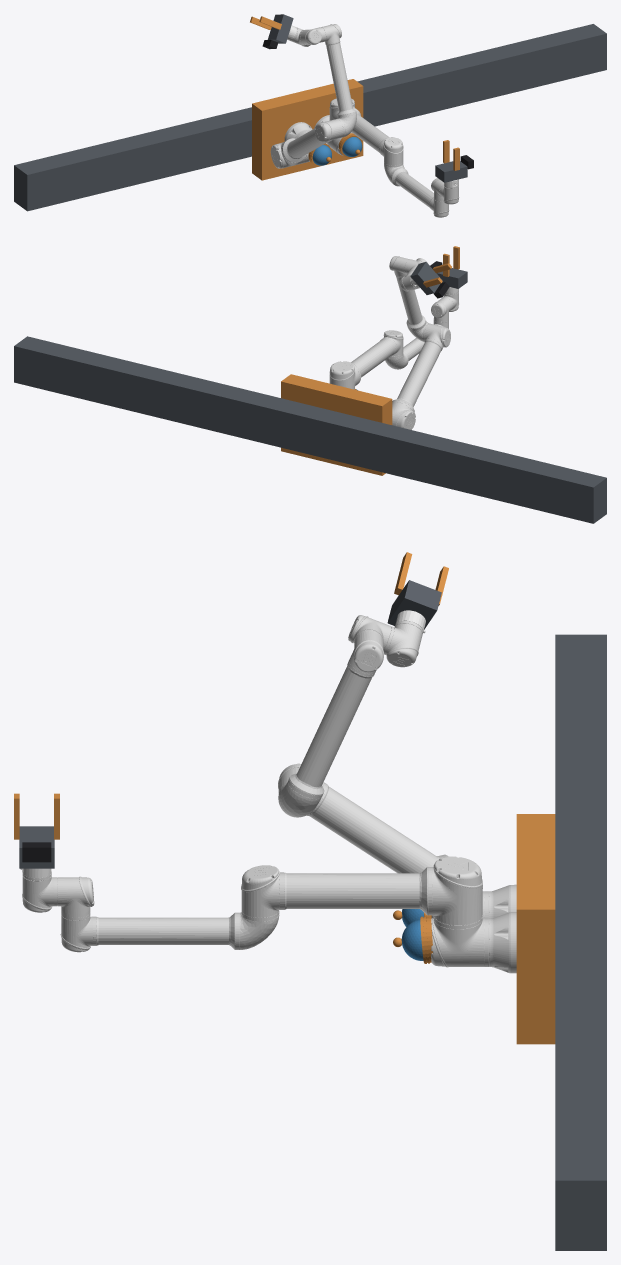
Rendered from robot.glb.
The picture shows the model from 3 angles, top to bottom: view 1: azimuth 30°, elevation 25°; view 2: azimuth 150°, elevation 25°; view 3: azimuth 270°, elevation 25°; orthographic projection. The views are drawn at different scales.
Visible parts, largest first — view 1: home__rail_base__visual_0, reach__carriage__visual_0, home__carriage__visual_0, reach__upper_arm_link__visual_0, reach__forearm_link__visual_0, home__upper_arm_link__visual_0, home__forearm_link__visual_0, home__gripper__visual_0, reach__gripper__visual_0, reach__wrist_1_link__visual_0, home__beanie__visual_3, reach__base_link_inertia__visual_0 (+2 smaller); view 2: home__rail_base__visual_0, reach__upper_arm_link__visual_0, home__carriage__visual_0, reach__carriage__visual_0, home__upper_arm_link__visual_0, reach__forearm_link__visual_0, home__forearm_link__visual_0, reach__gripper__visual_0, home__gripper__visual_0, home__wrist_1_link__visual_0; view 3: home__rail_base__visual_0, home__upper_arm_link__visual_0, home__carriage__visual_0, home__forearm_link__visual_0, reach__forearm_link__visual_0, reach__upper_arm_link__visual_0, home__shoulder_link__visual_0, home__base_link_inertia__visual_0, home__wrist_1_link__visual_0, reach__gripper__visual_0, reach__wrist_2_link__visual_0, home__wrist_2_link__visual_0 (+3 smaller).
Boxes of the visible parts, x1=… form: home__rail_base__visual_0: x1=14, y1=24, x2=606, y2=211; reach__carriage__visual_0: x1=252, y1=86, x2=334, y2=180; home__carriage__visual_0: x1=281, y1=79, x2=363, y2=172; reach__upper_arm_link__visual_0: x1=270, y1=118, x2=345, y2=168; reach__forearm_link__visual_0: x1=320, y1=24, x2=356, y2=136; home__upper_arm_link__visual_0: x1=329, y1=98, x2=403, y2=167; home__forearm_link__visual_0: x1=384, y1=164, x2=449, y2=217; home__gripper__visual_0: x1=435, y1=161, x2=467, y2=182; reach__gripper__visual_0: x1=267, y1=14, x2=293, y2=43; reach__wrist_1_link__visual_0: x1=299, y1=27, x2=324, y2=44; home__beanie__visual_3: x1=342, y1=137, x2=362, y2=156; reach__base_link_inertia__visual_0: x1=284, y1=122, x2=312, y2=141; home__rail_base__visual_0: x1=14, y1=336, x2=606, y2=523; reach__upper_arm_link__visual_0: x1=392, y1=323, x2=450, y2=429; home__carriage__visual_0: x1=281, y1=374, x2=362, y2=468; reach__carriage__visual_0: x1=310, y1=381, x2=392, y2=475; home__upper_arm_link__visual_0: x1=329, y1=330, x2=403, y2=389; reach__forearm_link__visual_0: x1=389, y1=256, x2=428, y2=341; home__forearm_link__visual_0: x1=385, y1=318, x2=448, y2=369; reach__gripper__visual_0: x1=410, y1=262, x2=442, y2=294; home__gripper__visual_0: x1=437, y1=268, x2=467, y2=288; home__wrist_1_link__visual_0: x1=431, y1=296, x2=453, y2=321; home__rail_base__visual_0: x1=555, y1=634, x2=606, y2=1250; home__upper_arm_link__visual_0: x1=241, y1=856, x2=482, y2=925; home__carriage__visual_0: x1=516, y1=841, x2=555, y2=1044; home__forearm_link__visual_0: x1=60, y1=912, x2=279, y2=952; reach__forearm_link__visual_0: x1=278, y1=629, x2=383, y2=817; reach__upper_arm_link__visual_0: x1=278, y1=763, x2=482, y2=888; home__shoulder_link__visual_0: x1=431, y1=916, x2=484, y2=967; home__base_link_inertia__visual_0: x1=484, y1=912, x2=516, y2=973; home__wrist_1_link__visual_0: x1=54, y1=876, x2=94, y2=917; reach__gripper__visual_0: x1=387, y1=580, x2=441, y2=629; reach__wrist_2_link__visual_0: x1=384, y1=621, x2=423, y2=667; home__wrist_2_link__visual_0: x1=22, y1=871, x2=54, y2=912.
Size of the model in its own units: 4 by 1.26 by 1.84.
